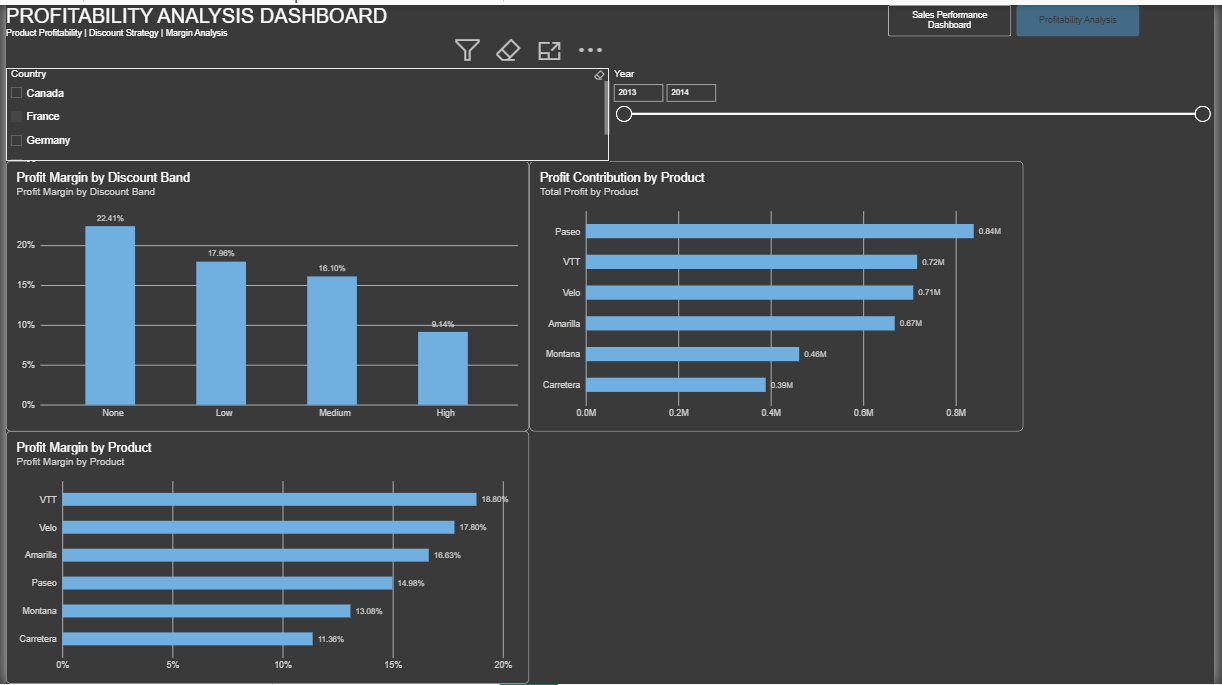

Layout of this report page (visuals, bound fields, positions):
{"tool":"powerbi","page":{"name":"Profitability Analysis","canvas":[1920,1080],"ordinal":1},"visuals":[{"type":"clusteredColumnChart","title":"Profit Margin by Discount Band","fields":{"Category":["SalesData.Discount Band"],"Y":["SalesData.Profit Margin"]},"box":[0,248.3,831.7,430],"z":0},{"type":"clusteredBarChart","title":"Profit Contribution by Product","fields":{"Category":["SalesData.Product"],"Y":["SalesData.Total Profit"]},"box":[831.7,248.3,785,430],"z":1},{"type":"clusteredBarChart","title":"Profit Margin by Product","fields":{"Category":["SalesData.Product"],"Y":["SalesData.Profit Margin"]},"box":[0,678.3,831.7,401.7],"z":2},{"type":"textbox","box":[0,0,831.7,100],"z":3},{"type":"slicer","fields":{"Values":["SalesData.Country"]},"box":[0,100,960,148.3],"z":4},{"type":"slicer","fields":{"Values":["SalesData.Year"]},"box":[960,100,960,148],"z":5},{"type":"pageNavigator","box":[1403.3,0,400,50],"z":6}]}

Visuals, with their boxes in screenshot pixels (x1, y1, x2, y2), scaled from the page's 1920x1080 canvas onto the 1222x685 screenshot:
"Profit Margin by Discount Band" clusteredColumnChart: (left=0, top=157, right=529, bottom=430)
"Profit Contribution by Product" clusteredBarChart: (left=529, top=157, right=1029, bottom=430)
"Profit Margin by Product" clusteredBarChart: (left=0, top=430, right=529, bottom=684)
textbox: (left=0, top=0, right=529, bottom=63)
slicer - SalesData.Country: (left=0, top=63, right=611, bottom=157)
slicer - SalesData.Year: (left=611, top=63, right=1221, bottom=157)
pageNavigator: (left=893, top=0, right=1148, bottom=32)
